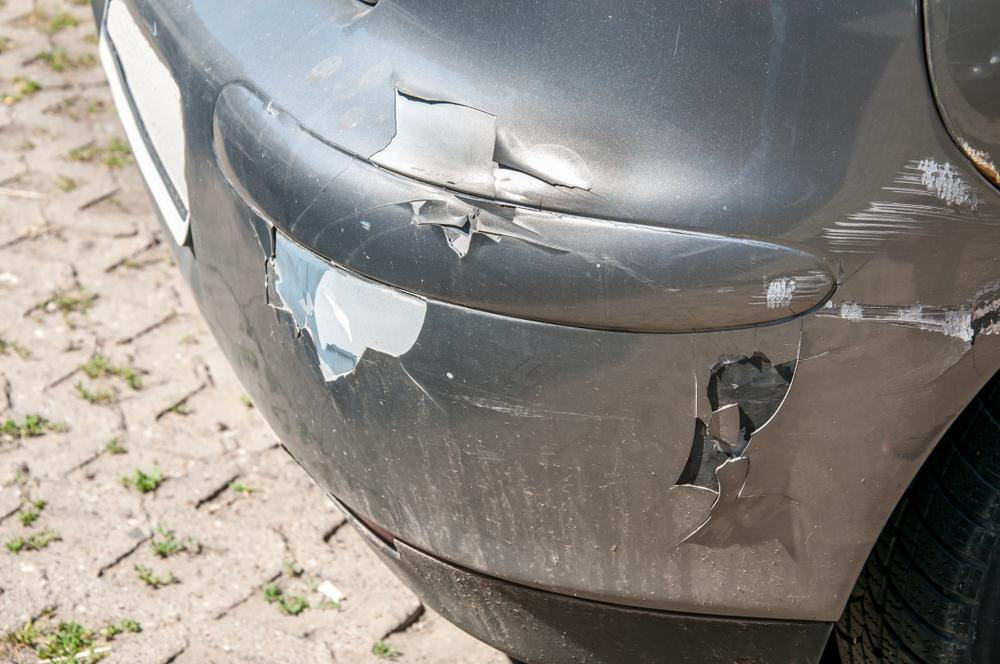scratch: (815, 148, 1000, 348)
